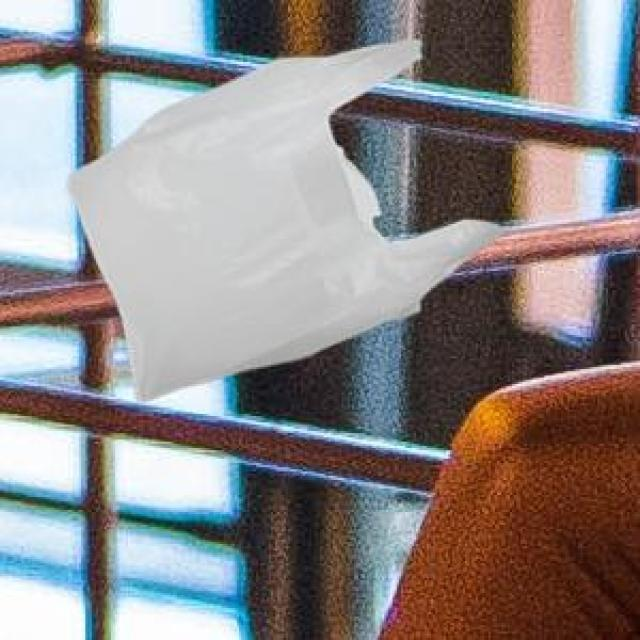waste: (70, 41, 499, 398)
